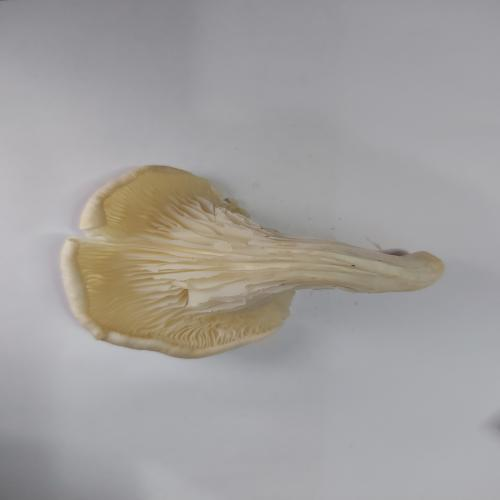Oyster Mushroom: (58, 164, 445, 359)
